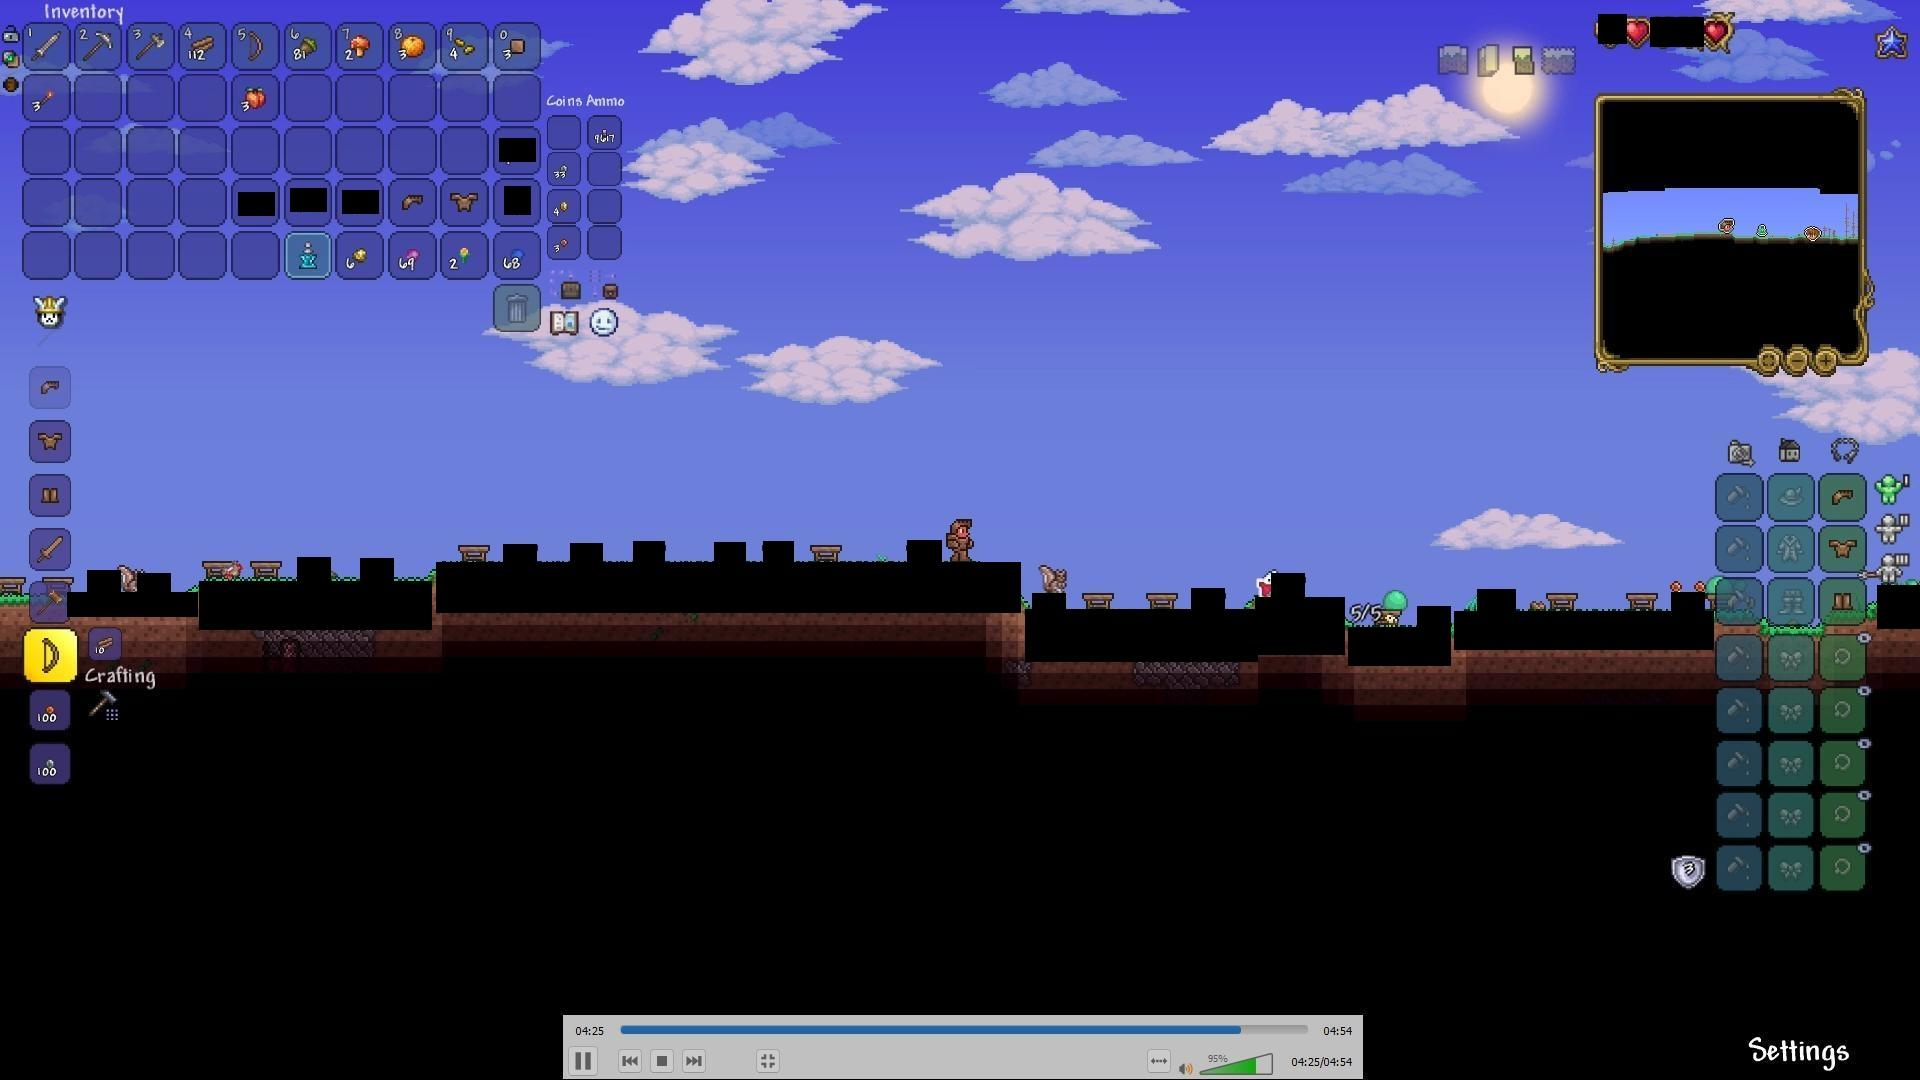breastplate: (36, 429, 66, 451), (1829, 537, 1858, 558), (448, 190, 477, 210)
heart: (1625, 18, 1654, 46), (1705, 18, 1729, 44)
helmet: (32, 373, 66, 402), (1829, 484, 1858, 510), (400, 189, 429, 214)
legs: (37, 483, 63, 509), (1833, 588, 1857, 615)
slime: (1379, 589, 1414, 617)
wood: (86, 628, 120, 657), (189, 33, 218, 61)
workbench: (458, 539, 491, 564), (1548, 593, 1581, 617), (1080, 588, 1113, 612), (1146, 592, 1179, 616), (1627, 589, 1659, 613), (0, 575, 30, 599), (810, 542, 841, 564), (248, 563, 289, 580), (202, 560, 235, 582)
